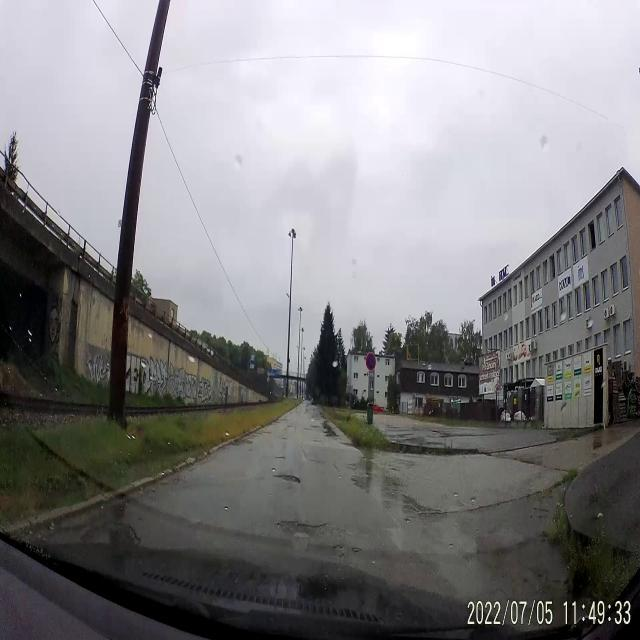Pothole: (276, 512, 337, 543), (89, 514, 138, 542), (264, 464, 306, 495)
